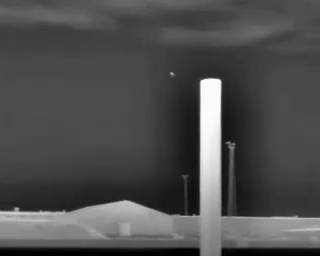BIRD: (168, 69, 177, 79)
